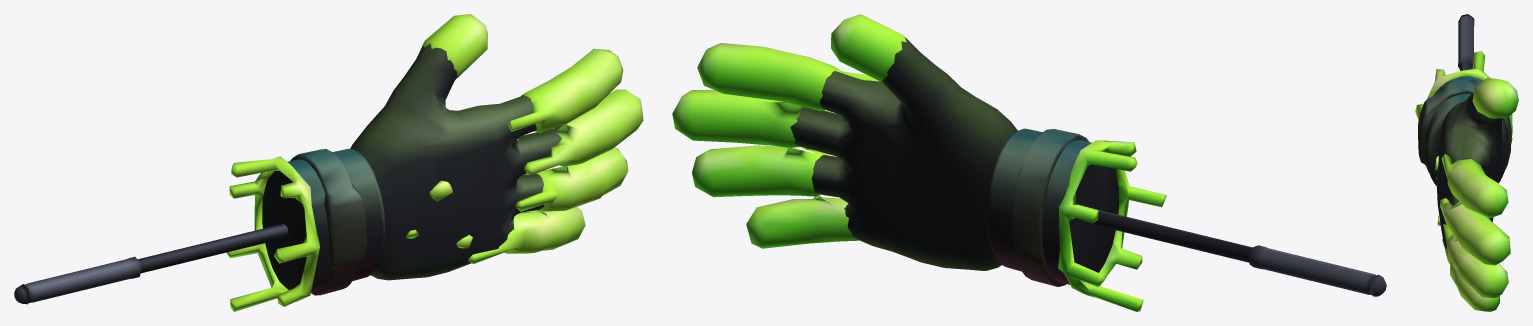
Rendered from glove_slime.glb.
3 views of the same model, side by side, from view 1: azimuth 30°, elevation 25°; view 2: azimuth 150°, elevation 25°; view 3: azimuth 270°, elevation 25° (orthographic). The views are drawn at different scales.
Visible parts, largest first — view 1: Glove, Glow, Stick; view 2: Glove, Glow, Stick; view 3: Glow, Glove, Stick.
Part boxes in pixels (left/top/right/bottom): Glove: left=262, top=43, right=561, bottom=295; Glow: left=226, top=14, right=643, bottom=311; Stick: left=14, top=223, right=288, bottom=304; Glove: left=790, top=37, right=1118, bottom=286; Glow: left=672, top=14, right=1166, bottom=311; Stick: left=1092, top=210, right=1386, bottom=296; Glow: left=1415, top=51, right=1518, bottom=311; Glove: left=1418, top=76, right=1511, bottom=248; Stick: left=1458, top=14, right=1474, bottom=70.
Bounding box in the file's own units: 1.18 × 0.4217 × 0.2045.
